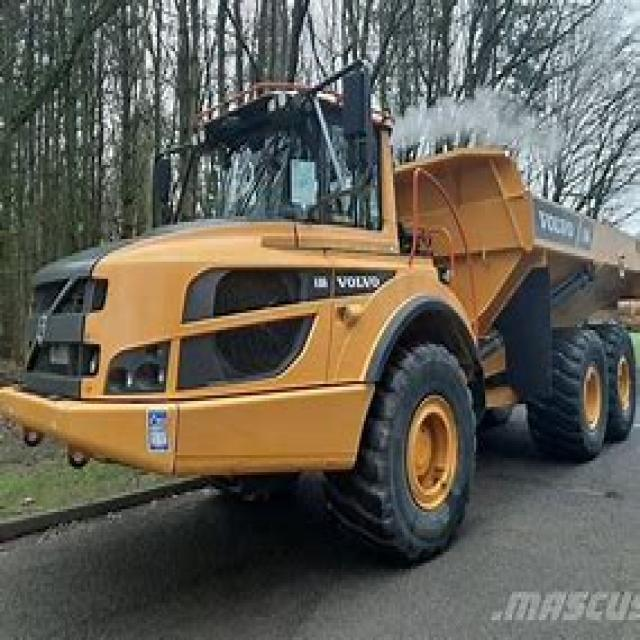dump_truck: (9, 74, 638, 566)
